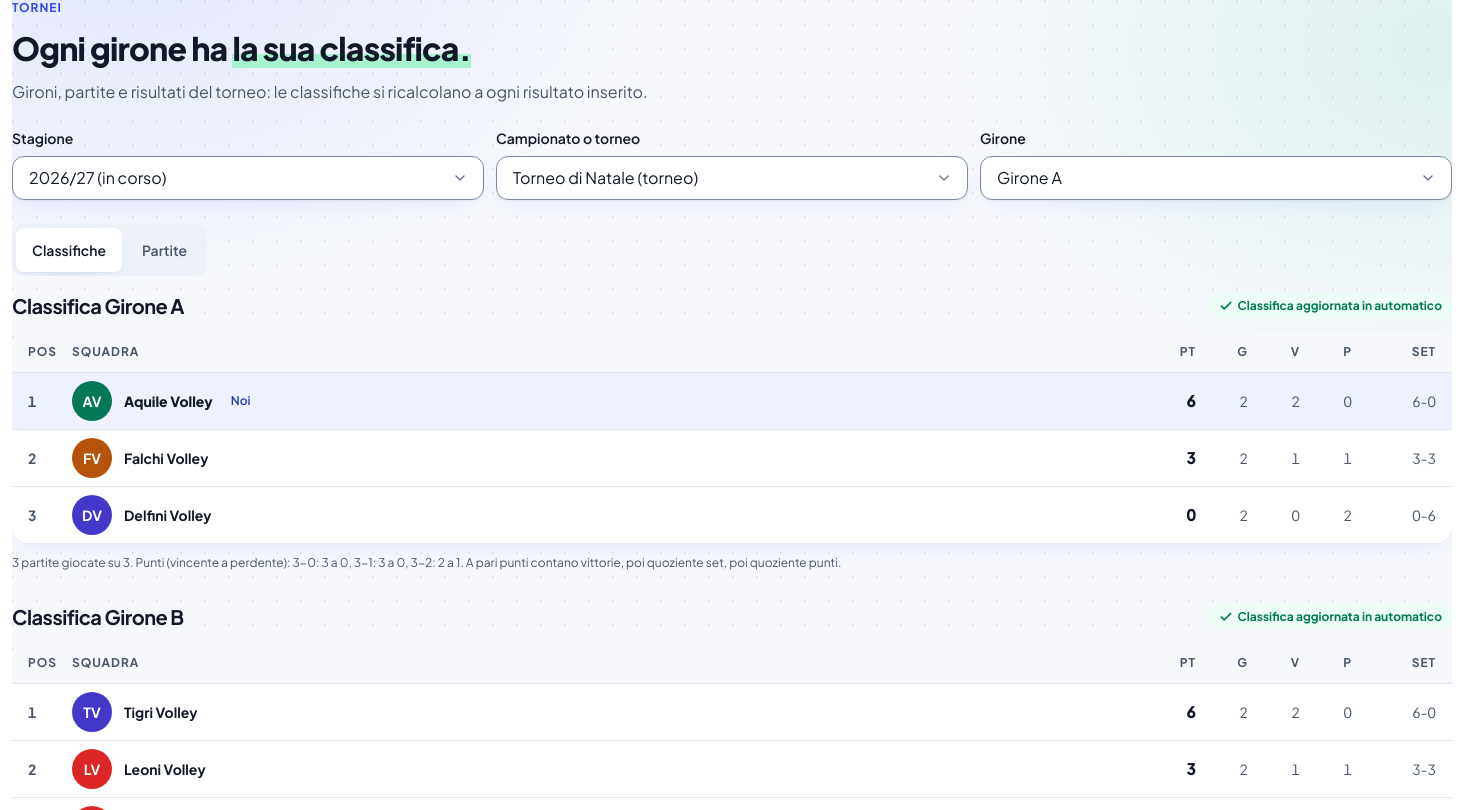
Scenario: TorneiPage › gives a reader no Gestione tab and no write actions
Expected: the heading "Classifica Girone A" is shown, x1=12 y1=292 x2=184 y2=320
Click the tab "Partite" at (165, 250), box x1=126 y1=228 x2=203 y2=272
(page scrolled)
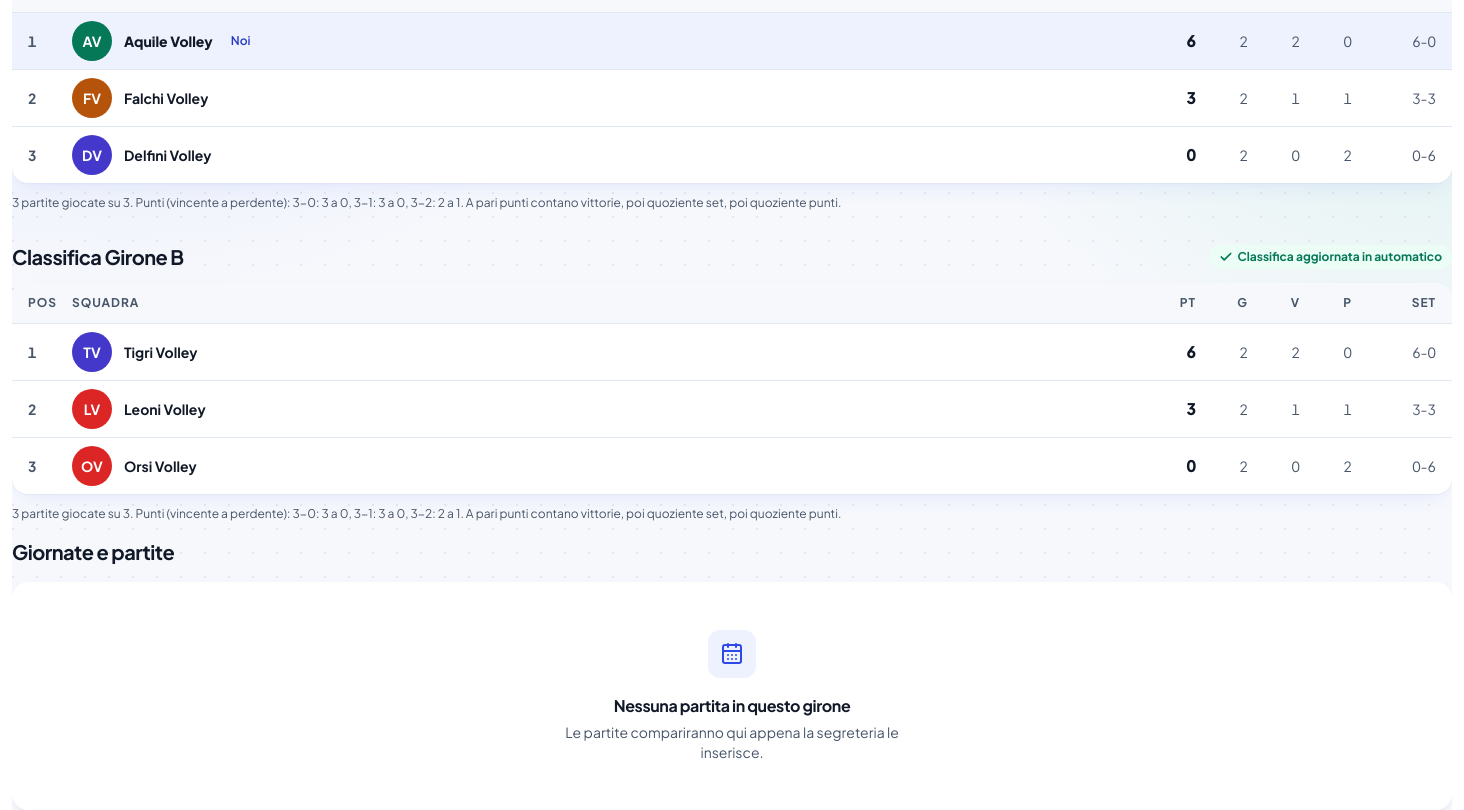
Expected: the heading "Nessuna partita in questo girone" is shown, x1=614 y1=694 x2=850 y2=718
